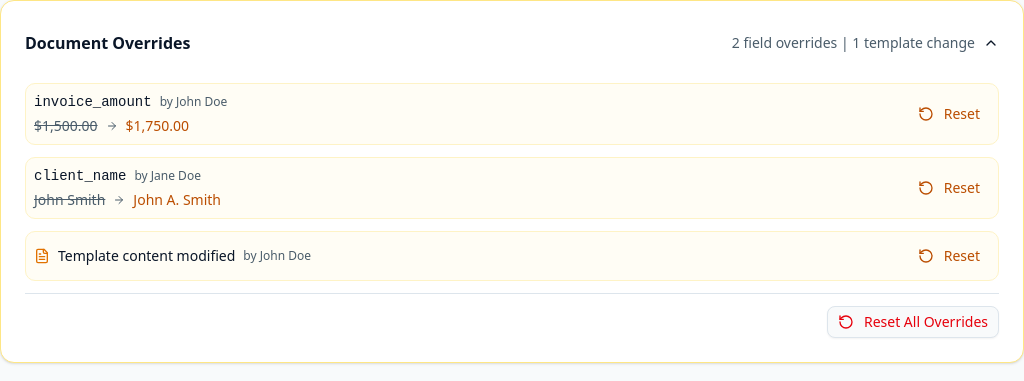
Test: OverrideManagementPanel › collapsible behavior › should collapse when header clicked again
Expected: the text "invoice_amount" is shown, [34,92,152,112]
Note: Click to collapse
Click the text "Document Overrides" at (108, 43), box [25,31,190,55]
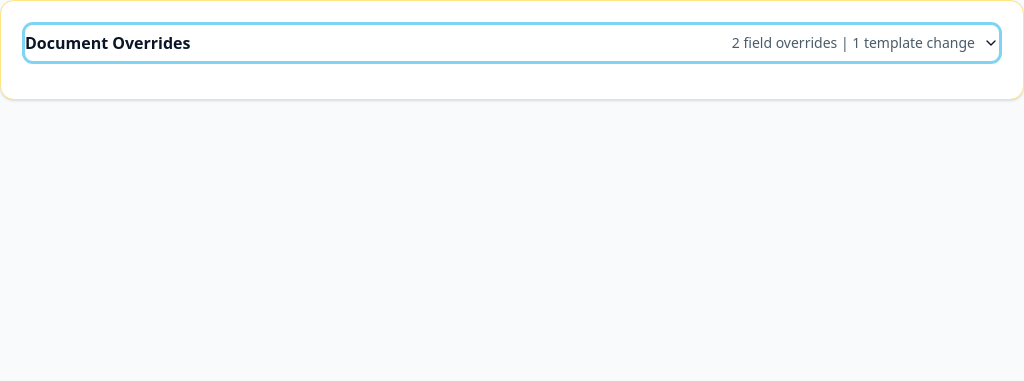
Expected: the element with test id "override-row" is gone
